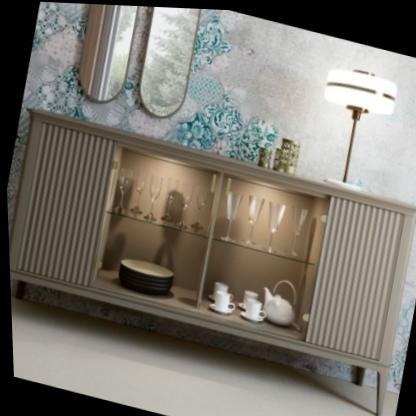Cupboard: (7, 109, 416, 413)
